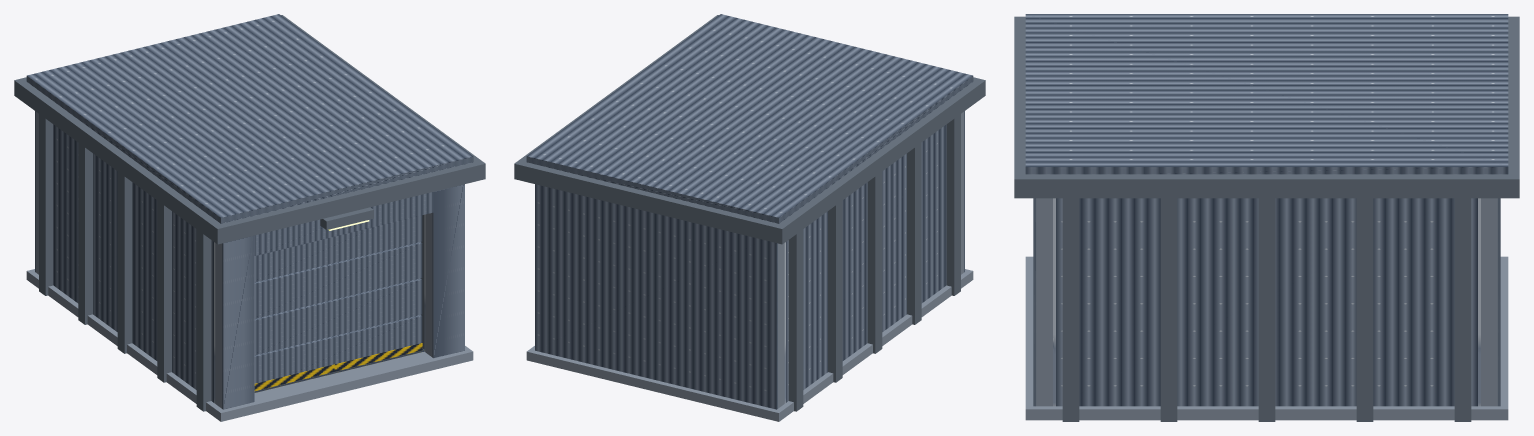
The model's file is garage_box_enterable.glb.
3 renders of one model, left to right at view 1: azimuth 30°, elevation 25°; view 2: azimuth 150°, elevation 25°; view 3: azimuth 270°, elevation 25°, orthographic. The views are drawn at different scales.
Visible parts, largest first — view 1: garage_box_enterable, door_garage_pivot; view 2: garage_box_enterable; view 3: garage_box_enterable.
Boxes of the visible parts, x1,y1,x2,y2 form: garage_box_enterable: (14, 14, 485, 421); door_garage_pivot: (254, 215, 422, 390); garage_box_enterable: (514, 14, 985, 421); garage_box_enterable: (1014, 14, 1519, 421).
Size of the model in its own units: 5.1 by 3.71 by 6.7.
7 materials, 4 textured.
